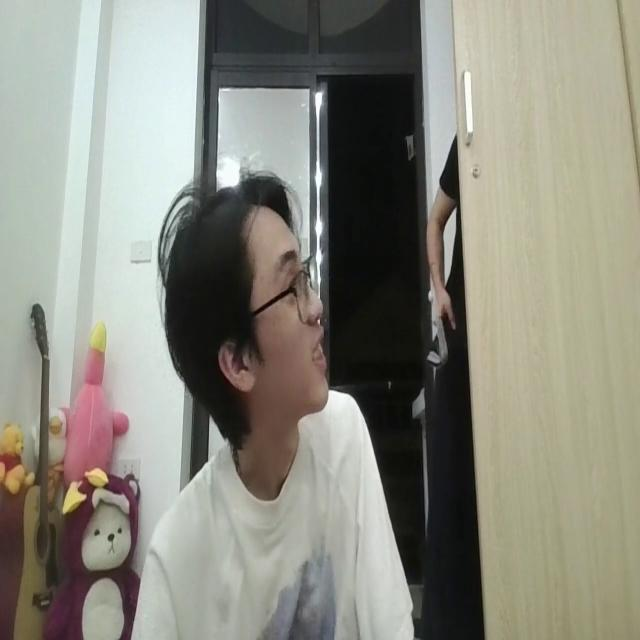student: (114, 159, 413, 640)
